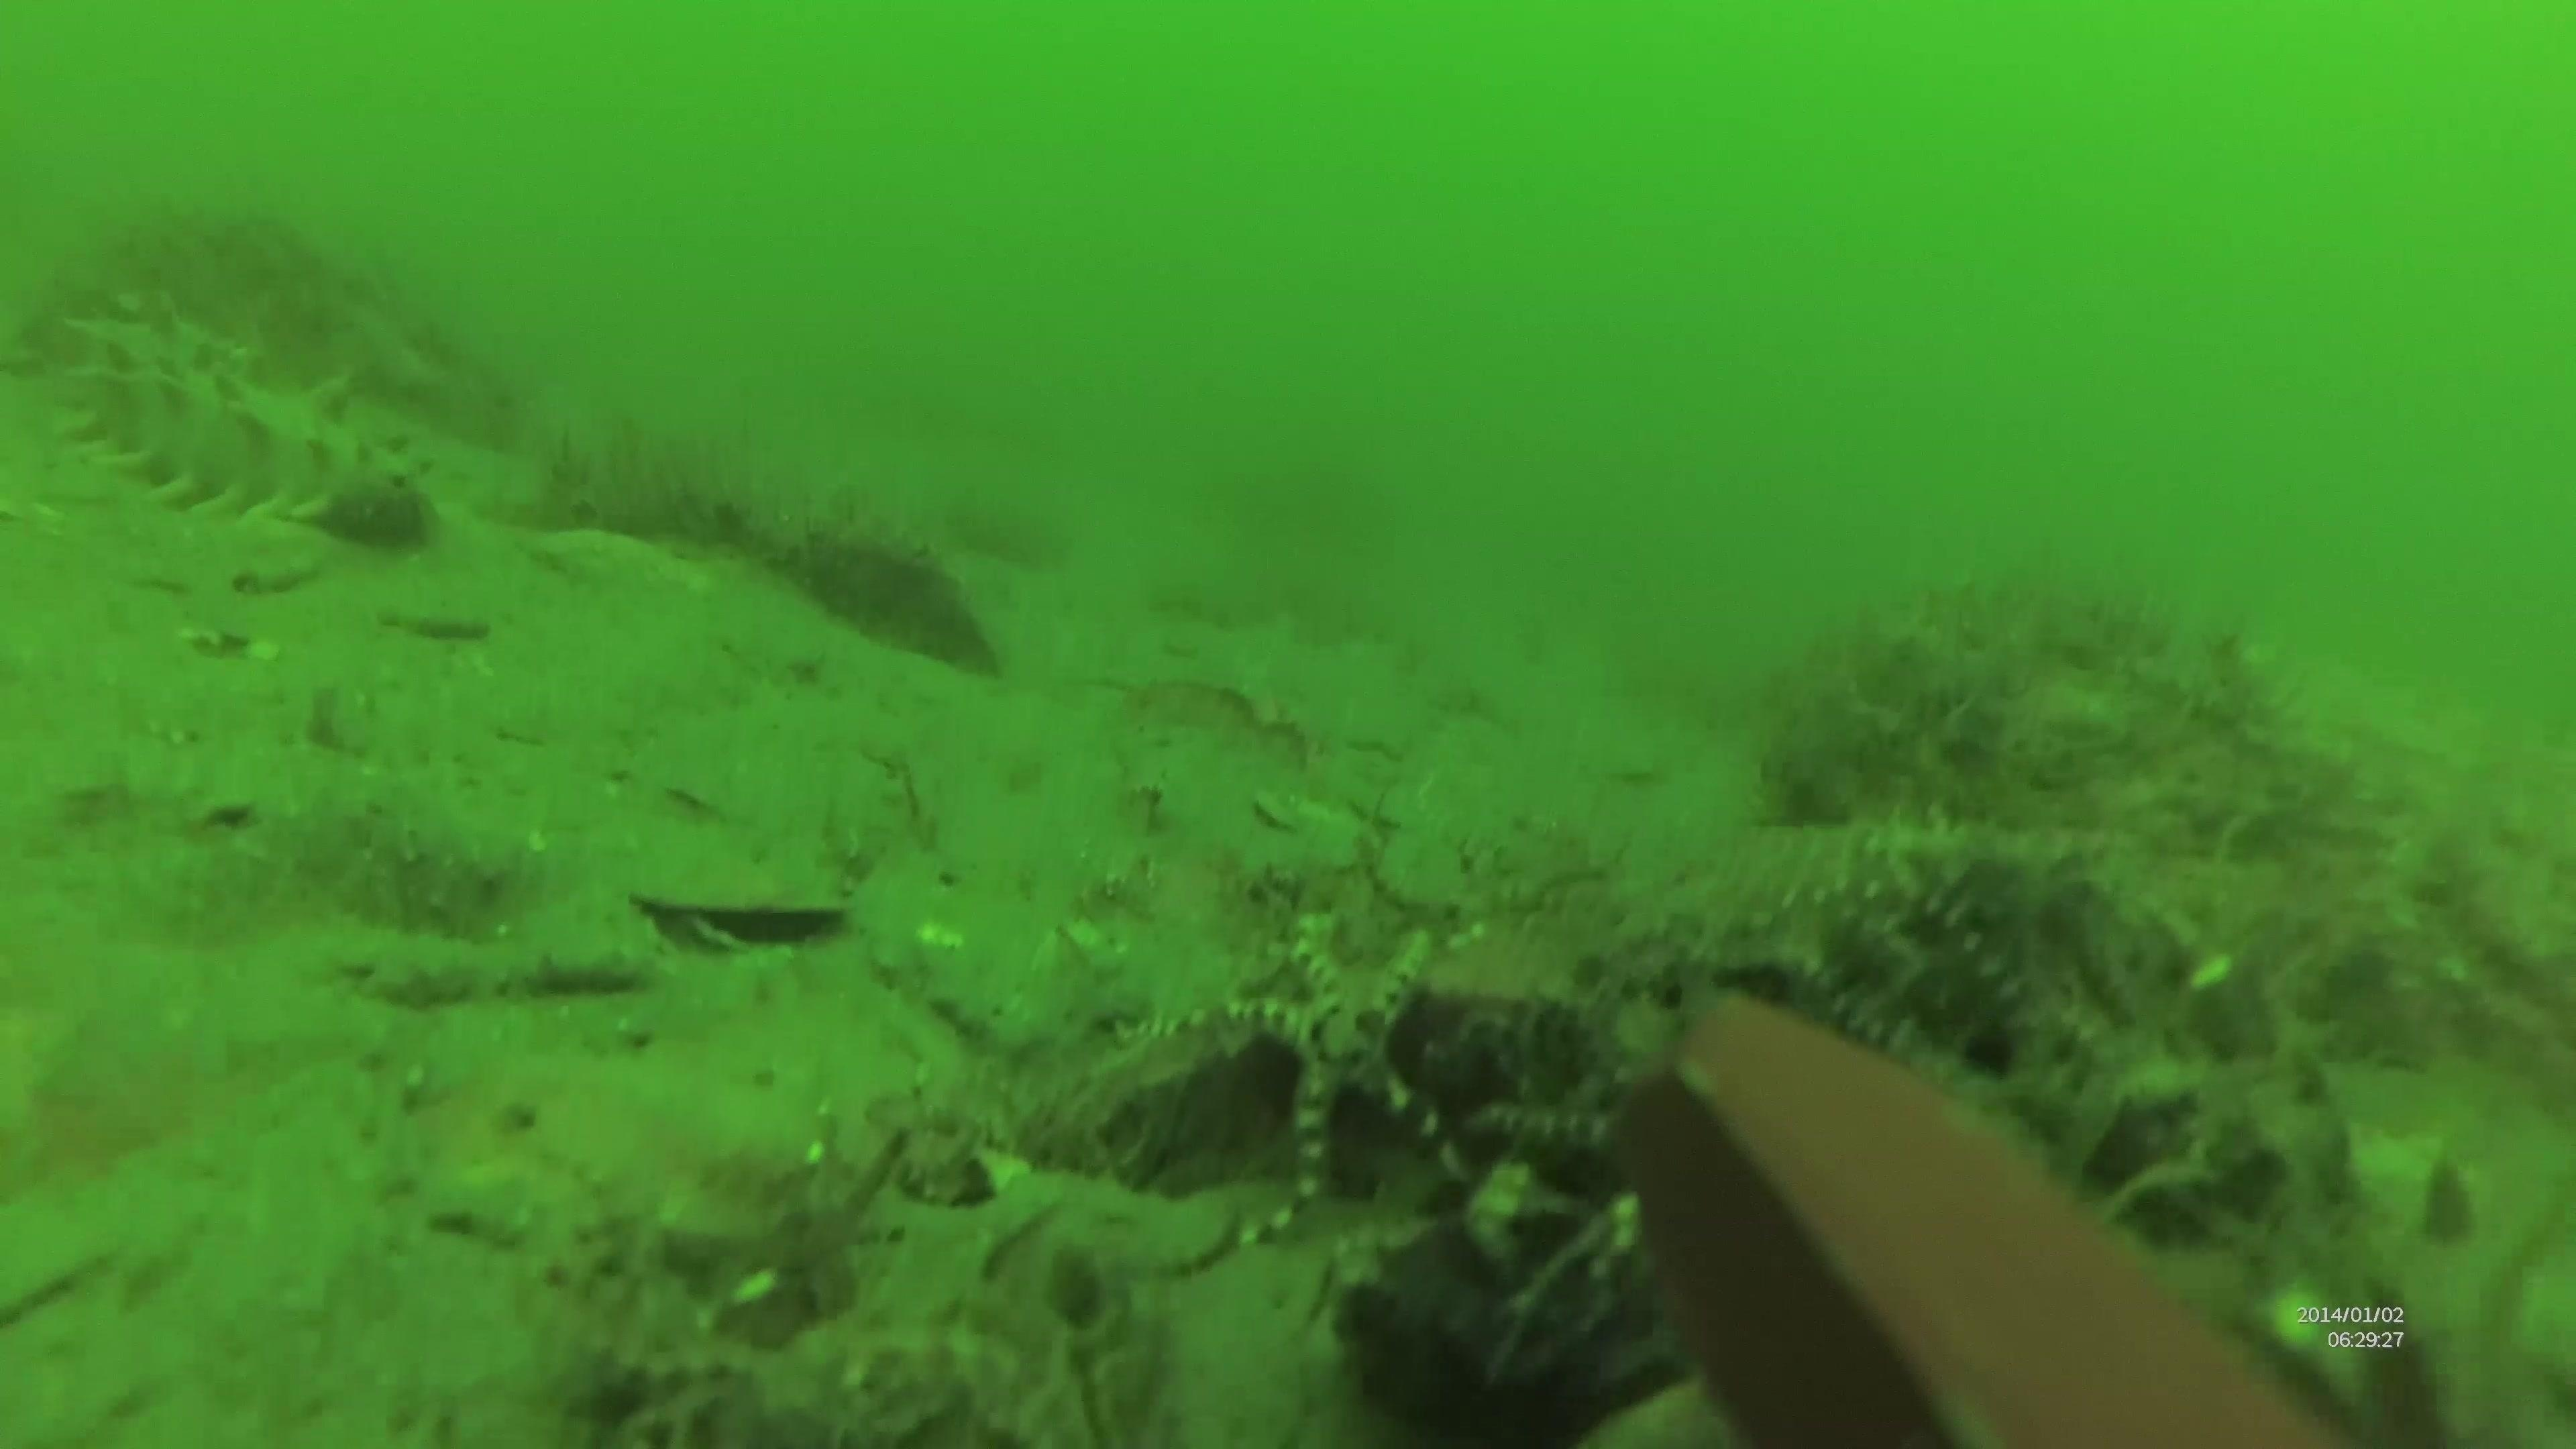holothurian: (51, 297, 446, 556), (1596, 803, 2054, 984)
scallop: (625, 844, 855, 961)
